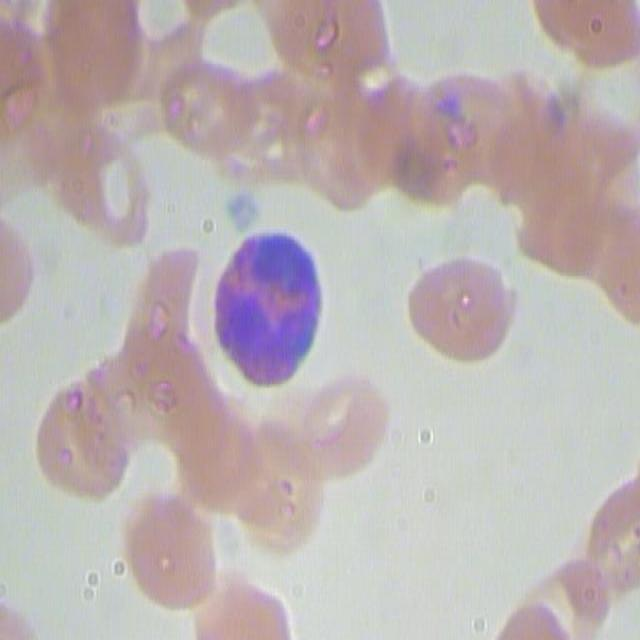RBC: (238, 35, 386, 210), (194, 392, 328, 550), (368, 50, 486, 212), (456, 60, 571, 203), (167, 0, 311, 110), (15, 0, 152, 112), (33, 366, 140, 499), (281, 338, 381, 480), (54, 124, 158, 247), (407, 248, 516, 364), (126, 489, 217, 610), (532, 0, 638, 72), (585, 473, 640, 607), (116, 0, 226, 66), (202, 575, 304, 640)
WBC: (209, 214, 333, 416)
platelets: (224, 188, 261, 235)
